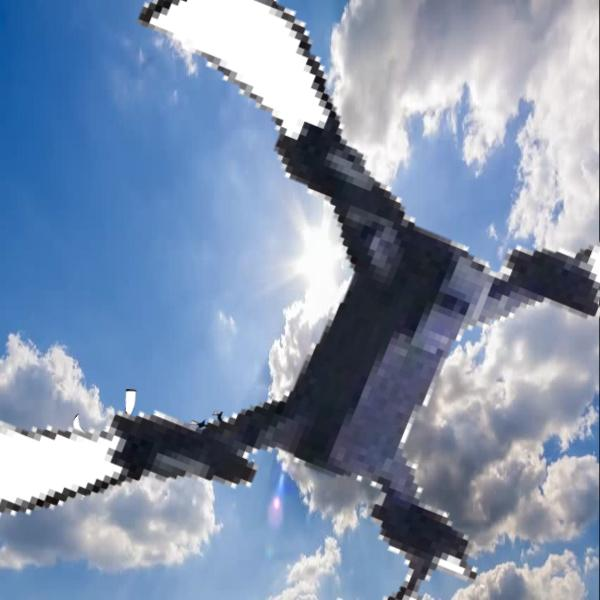drone: (71, 389, 156, 474), (183, 408, 244, 469)
